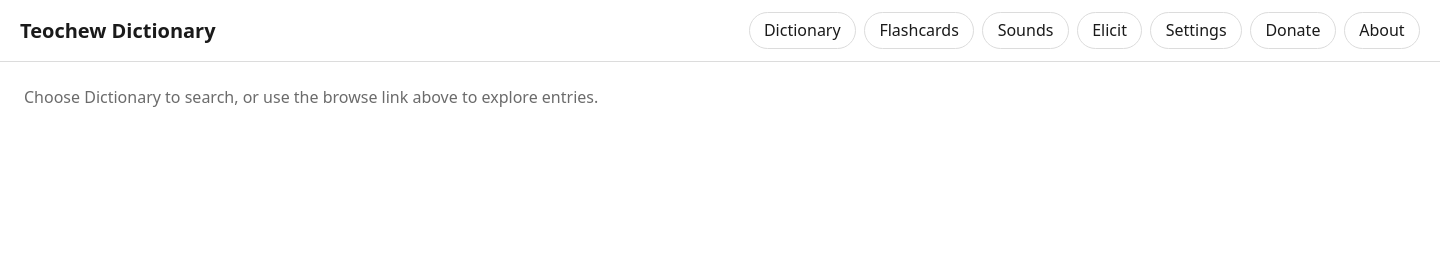
App Sounds tab › fetches and shows the sound inventory only once the Sounds tab is selected
This screenshot has width=1440, height=273.
Expected: the text "tie⁵⁵" is not shown
Click the link "Sounds". click: (1026, 30)
box: [982,12,1069,49]
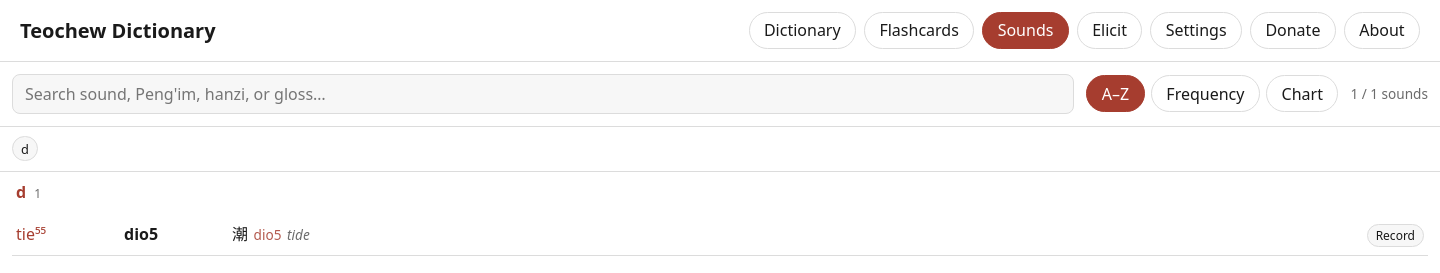
Expected: the text "tie⁵⁵" is shown, [16,223,46,245]
Expected: the 1st text "dio5" is shown, [124,223,158,245]
